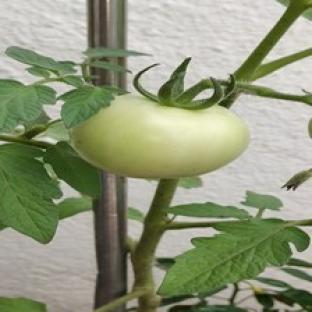Tomato: (70, 94, 249, 178), (308, 119, 311, 137)
